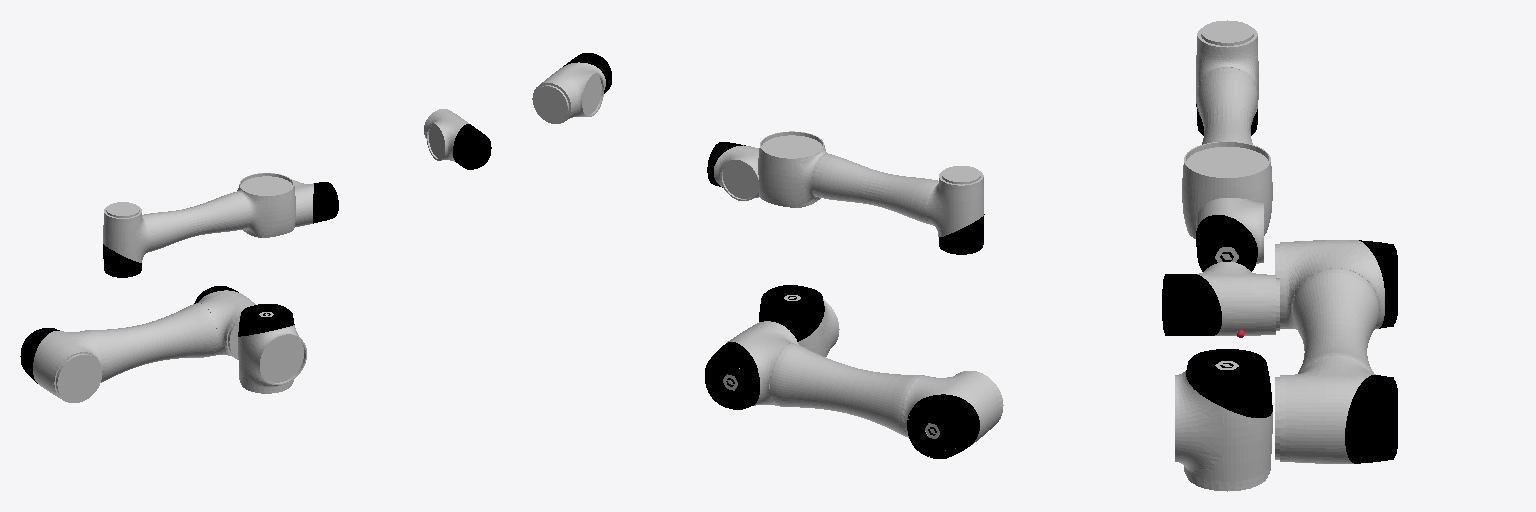
URDF robot description (fr3):
<?xml version="1.0" ?>
<!-- =================================================================================== -->
<!-- |    This document was autogenerated by xacro from ws/src/external/franka_description/robots/fr3/fr3.urdf.xacro | -->
<!-- |    EDITING THIS FILE BY HAND IS NOT RECOMMENDED                                 | -->
<!-- =================================================================================== -->
<robot name="fr3">
  <!-- safety_distance: Minimum safety distance in [m] by which the collision volumes are expanded and which is enforced during robot motions -->
  <!-- arm_id: Namespace of the robot arm. Serves to differentiate between arms in case of multiple instances. -->
  <!-- joint_limits: description of the joint limits that comes from a YAML file. Example definition: ${xacro.load_yaml('$(find franka_description)/robots/fr3/joint_limits.yaml')} -->
  <!-- kinematics: description of the kinematics that comes from a YAML file. Example definition: ${xacro.load_yaml('$(find franka_description)/robots/fr3/kinematics.yaml')} -->
  <!-- inertials: description of the inertials that comes from a YAML file. Example definition: ${xacro.load_yaml('$(find franka_description)/robots/fr3/inertials.yaml')} -->
  <!-- dynamics: description of the dynamics that comes from a YAML file. Example definition: ${xacro.load_yaml('$(find franka_description)/robots/fr3/dynamics.yaml')} -->
  <!-- sub-link defining detailed meshes for collision with environment -->

  <!-- TODO: add klampt tag, will need to fix the visualization issue as well -->
  <klampt use_vis_geom="1" flip_yz="1" />

  <link name="fr3_link0">
    <visual name="fr3_link0_visual">
      <geometry>
        <mesh filename="urdfs/fr3/meshes/visual/link0.dae"/>
      </geometry>
    </visual>
    <collision name="fr3_link0_collision">
      <geometry>
        <mesh filename="urdfs/fr3/meshes/collision/link0.stl"/>
      </geometry>
    </collision>
    <inertial>
      <origin rpy="0 0 0" xyz="-0.0172 0.0004 0.0745"/>
      <mass value="2.3966"/>
      <inertia ixx="0.009" ixy="0.0" ixz="0.002" iyy="0.0115" iyz="0.0" izz="0.0085"/>
    </inertial>
  </link>
  <!-- sub-link defining detailed meshes for collision with environment -->
  <link name="fr3_link1">
    <visual name="fr3_link1_visual">
      <geometry>
        <mesh filename="urdfs/fr3/meshes/visual/link1.dae"/>
      </geometry>
    </visual>
    <collision name="fr3_link1_collision">
      <geometry>
        <mesh filename="urdfs/fr3/meshes/collision/link1.stl"/>
      </geometry>
    </collision>
    <inertial>
      <origin rpy="0 0 0" xyz="0.0000004128 -0.0181251324 -0.0386035970"/>
      <mass value="2.9274653454"/>
      <inertia ixx="0.023927316485107913" ixy="1.3317903455714081e-05" ixz="-0.00011404774918616684" iyy="0.0224821613275756" iyz="-0.0019950320628240115" izz="0.006350098258530016"/>
    </inertial>
  </link>
  <joint name="fr3_joint1" type="revolute">
    <origin rpy="0 0 0" xyz="0 0 0.333"/>
    <parent link="fr3_link0"/>
    <child link="fr3_link1"/>
    <axis xyz="0 0 1"/>
    <limit effort="87.0" lower="-2.7437" upper="2.7437" velocity="2.62"/>
    <safety_controller k_position="100.0" k_velocity="40.0" soft_lower_limit="-2.7437" soft_upper_limit="2.7437"/>
    <dynamics D="1" K="7000" damping="0.003" friction="0.2" mu_coulomb="0" mu_viscous="16"/>
  </joint>
  <!-- sub-link defining detailed meshes for collision with environment -->
  <link name="fr3_link2">
    <visual name="fr3_link2_visual">
      <geometry>
        <mesh filename="urdfs/fr3/meshes/visual/link2.dae"/>
      </geometry>
    </visual>
    <collision name="fr3_link2_collision">
      <geometry>
        <mesh filename="urdfs/fr3/meshes/collision/link2.stl"/>
      </geometry>
    </collision>
    <inertial>
      <origin rpy="0 0 0" xyz="0.0031828864 -0.0743221644 0.0088146084"/>
      <mass value="2.9355370338"/>
      <inertia ixx="0.041938946257609425" ixy="0.00020257331521090626" ixz="0.004077784227179924" iyy="0.02514514885014724" iyz="-0.0042252158006570156" izz="0.06170214472888839"/>
    </inertial>
  </link>
  <joint name="fr3_joint2" type="revolute">
    <origin rpy="-1.570796326794897 0 0" xyz="0 0 0"/>
    <parent link="fr3_link1"/>
    <child link="fr3_link2"/>
    <axis xyz="0 0 1"/>
    <limit effort="87.0" lower="-1.7837" upper="1.7837" velocity="2.62"/>
    <safety_controller k_position="100.0" k_velocity="40.0" soft_lower_limit="-1.7837" soft_upper_limit="1.7837"/>
    <dynamics D="1" K="7000" damping="0.003" friction="0.2" mu_coulomb="0" mu_viscous="16"/>
  </joint>
  <!-- sub-link defining detailed meshes for collision with environment -->
  <link name="fr3_link3">
    <visual name="fr3_link3_visual">
      <geometry>
        <mesh filename="urdfs/fr3/meshes/visual/link3.dae"/>
      </geometry>
    </visual>
    <collision name="fr3_link3_collision">
      <geometry>
        <mesh filename="urdfs/fr3/meshes/collision/link3.stl"/>
      </geometry>
    </collision>
    <inertial>
      <origin rpy="0 0 0" xyz="0.0407015686 -0.0048200565 -0.0289730823"/>
      <mass value="2.2449013699"/>
      <inertia ixx="0.02410142547240885" ixy="0.002404694559042109" ixz="-0.002856269270114313" iyy="0.01974053266708178" iyz="-0.002104212683891874" izz="0.019044494482244823"/>
    </inertial>
  </link>
  <joint name="fr3_joint3" type="revolute">
    <origin rpy="1.570796326794897 0 0" xyz="0 -0.316 0"/>
    <parent link="fr3_link2"/>
    <child link="fr3_link3"/>
    <axis xyz="0 0 1"/>
    <limit effort="87.0" lower="-2.9007" upper="2.9007" velocity="2.62"/>
    <safety_controller k_position="100.0" k_velocity="40.0" soft_lower_limit="-2.9007" soft_upper_limit="2.9007"/>
    <dynamics D="1" K="7000" damping="0.003" friction="0.2" mu_coulomb="0" mu_viscous="16"/>
  </joint>
  <!-- sub-link defining detailed meshes for collision with environment -->
  <link name="fr3_link4">
    <visual name="fr3_link4_visual">
      <geometry>
        <mesh filename="urdfs/fr3/meshes/visual/link4.dae"/>
      </geometry>
    </visual>
    <collision name="fr3_link4_collision">
      <geometry>
        <mesh filename="urdfs/fr3/meshes/collision/link4.stl"/>
      </geometry>
    </collision>
    <inertial>
      <origin rpy="0 0 0" xyz="-0.0459100965 0.0630492960 -0.0085187868"/>
      <mass value="2.6155955791"/>
      <inertia ixx="0.03452998321913202" ixy="0.01322552265982813" ixz="0.01015142998484113" iyy="0.028881621933049058" iyz="-0.0009762833870704552" izz="0.04125471171146641"/>
    </inertial>
  </link>
  <joint name="fr3_joint4" type="revolute">
    <origin rpy="1.570796326794897 0 0" xyz="0.0825 0 0"/>
    <parent link="fr3_link3"/>
    <child link="fr3_link4"/>
    <axis xyz="0 0 1"/>
    <limit effort="87.0" lower="-3.0421" upper="-0.1518" velocity="2.62"/>
    <safety_controller k_position="100.0" k_velocity="40.0" soft_lower_limit="-3.0421" soft_upper_limit="-0.1518"/>
    <dynamics D="1" K="7000" damping="0.003" friction="0.2" mu_coulomb="0" mu_viscous="16"/>
  </joint>
  <!-- sub-link defining detailed meshes for collision with environment -->
  <link name="fr3_link5">
    <visual name="fr3_link5_visual">
      <geometry>
        <mesh filename="urdfs/fr3/meshes/visual/link5.dae"/>
      </geometry>
    </visual>
    <collision name="fr3_link5_collision">
      <geometry>
        <mesh filename="urdfs/fr3/meshes/collision/link5.stl"/>
      </geometry>
    </collision>
    <inertial>
      <origin rpy="0 0 0" xyz="-0.0016039605 0.0292536262 -0.0972965990"/>
      <mass value="2.3271207594"/>
      <inertia ixx="0.051610278463662895" ixy="-0.005715173387783472" ixz="-0.0035673167625872135" iyy="0.04787729713371481" iyz="0.010673985108535986" izz="0.016423625579357254"/>
    </inertial>
  </link>
  <joint name="fr3_joint5" type="revolute">
    <origin rpy="-1.570796326794897 0 0" xyz="-0.0825 0.384 0"/>
    <parent link="fr3_link4"/>
    <child link="fr3_link5"/>
    <axis xyz="0 0 1"/>
    <limit effort="12.0" lower="-2.8065" upper="2.8065" velocity="5.26"/>
    <safety_controller k_position="100.0" k_velocity="40.0" soft_lower_limit="-2.8065" soft_upper_limit="2.8065"/>
    <dynamics D="1" K="7000" damping="0.003" friction="0.2" mu_coulomb="0" mu_viscous="16"/>
  </joint>
  <!-- sub-link defining detailed meshes for collision with environment -->
  <link name="fr3_link6">
    <visual name="fr3_link6_visual">
      <geometry>
        <mesh filename="urdfs/fr3/meshes/visual/link6.dae"/>
      </geometry>
    </visual>
    <collision name="fr3_link6_collision">
      <geometry>
        <mesh filename="urdfs/fr3/meshes/collision/link6.stl"/>
      </geometry>
    </collision>
    <inertial>
      <origin rpy="0 0 0" xyz="0.0597131221 -0.0410294666 -0.0101692726"/>
      <mass value="1.8170376524"/>
      <inertia ixx="0.005412333594383447" ixy="0.006193456360285834" ixz="0.0014219289306117652" iyy="0.014058329545509979" iyz="-0.0013140753741120031" izz="0.016080817924212554"/>
    </inertial>
  </link>
  <joint name="fr3_joint6" type="revolute">
    <origin rpy="1.570796326794897 0 0" xyz="0 0 0"/>
    <parent link="fr3_link5"/>
    <child link="fr3_link6"/>
    <axis xyz="0 0 1"/>
    <limit effort="12.0" lower="0.5445" upper="4.5169" velocity="4.18"/>
    <safety_controller k_position="100.0" k_velocity="40.0" soft_lower_limit="0.5445" soft_upper_limit="4.5169"/>
    <dynamics D="1" K="7000" damping="0.003" friction="0.2" mu_coulomb="0" mu_viscous="16"/>
  </joint>
  <!-- sub-link defining detailed meshes for collision with environment -->
  <link name="fr3_link7">
    <visual name="fr3_link7_visual">
      <geometry>
        <mesh filename="urdfs/fr3/meshes/visual/link7.dae"/>
      </geometry>
    </visual>
    <collision name="fr3_link7_collision">
      <geometry>
        <mesh filename="urdfs/fr3/meshes/collision/link7.stl"/>
      </geometry>
    </collision>
    <inertial>
      <origin rpy="0 0 0" xyz="0.0045225817 0.0086261921 -0.0161633251"/>
      <mass value="0.6271432862"/>
      <inertia ixx="0.00021092389150104718" ixy="-2.433299114461931e-05" ixz="4.564480393778983e-05" iyy="0.00017718568002411474" iyz="8.744070223226438e-05" izz="5.993190599659971e-05"/>
    </inertial>
  </link>
  <joint name="fr3_joint7" type="revolute">
    <origin rpy="1.570796326794897 0 0" xyz="0.088 0 0"/>
    <parent link="fr3_link6"/>
    <child link="fr3_link7"/>
    <axis xyz="0 0 1"/>
    <limit effort="12.0" lower="-3.0159" upper="3.0159" velocity="5.26"/>
    <safety_controller k_position="100.0" k_velocity="40.0" soft_lower_limit="-3.0159" soft_upper_limit="3.0159"/>
    <dynamics D="1" K="7000" damping="0.003" friction="0.2" mu_coulomb="0" mu_viscous="16"/>
  </joint>
  <link name="fr3_link8"/>
  <joint name="fr3_joint8" type="fixed">
    <origin rpy="0 0 0" xyz="0 0 0.107"/>
    <parent link="fr3_link7"/>
    <child link="fr3_link8"/>
  </joint>
  <joint name="fr3_hand_joint" type="fixed">
    <parent link="fr3_link8"/>
    <child link="fr3_hand"/>
    <origin rpy="0 0 -0.7853981633974483" xyz="0 0 0"/>
  </joint>
  <!-- sub-link defining detailed meshes for collision with environment -->
  <link name="fr3_hand">
    <visual name="fr3_hand_visual">
      <geometry>
        <mesh filename="urdfs/fr3/meshes/visual/hand.dae"/>
      </geometry>
    </visual>
    <collision name="fr3_hand_collision">
      <geometry>
        <mesh filename="urdfs/fr3/meshes/collision/hand.stl"/>
      </geometry>
    </collision>
    <inertial>
      <origin rpy="0 0 0" xyz="-0.01 0 0.03"/>
      <mass value="0.73"/>
      <inertia ixx="0.001" ixy="0" ixz="0" iyy="0.0025" iyz="0" izz="0.0017"/>
    </inertial>
  </link>
  <!-- Define the hand_tcp frame -->
  <link name="fr3_hand_tcp"/>
  <joint name="fr3_hand_tcp_joint" type="fixed">
    <origin rpy="0 0 0" xyz="0 0 0.1034"/>
    <parent link="fr3_hand"/>
    <child link="fr3_hand_tcp"/>
  </joint>



  <!--  -->
  <link name="fr3_leftfinger">
      <visual>
        <geometry>
          <mesh filename="urdfs/fr3/meshes/visual/finger.dae" />
        </geometry>
      </visual>
      <!-- screw mount -->
      <collision>
        <origin xyz="0 18.5e-3 11e-3" rpy="0 0 0" />
        <geometry>
          <box size="22e-3 15e-3 20e-3" />
        </geometry>
      </collision>
      <!-- cartriage sledge -->
      <collision>
        <origin xyz="0 6.8e-3 2.2e-3" rpy="0 0 0" />
        <geometry>
          <box size="22e-3 8.8e-3 3.8e-3" />
        </geometry>
      </collision>
      <!-- diagonal finger -->
      <collision>
        <!-- <origin xyz="0 15.9e-3 28.35e-3" rpy="${pi/6} 0 0" /> -->
        <origin xyz="0 15.9e-3 28.35e-3" rpy="0.523598776 0 0" />
        <geometry>
          <box size="17.5e-3 7e-3 23.5e-3" />
        </geometry>
      </collision>
      <!-- rubber tip with which to grasp -->
      <collision>
        <origin xyz="0 7.58e-3 45.25e-3" rpy="0 0 0" />
        <geometry>
          <box size="17.5e-3 15.2e-3 18.5e-3" />
        </geometry>
      </collision>
    </link>
    <link name="fr3_rightfinger">
      <visual>
        <!-- <origin xyz="0 0 0" rpy="0 0 ${pi}" /> -->
        <origin xyz="0 0 0" rpy="0 0 3.14159265" />
        <geometry>
          <mesh filename="urdfs/fr3/meshes/visual/finger.dae" />
        </geometry>
      </visual>
      <!-- screw mount -->
      <collision>
        <origin xyz="0 -18.5e-3 11e-3" rpy="0 0 0" />
        <geometry>
          <box size="22e-3 15e-3 20e-3" />
        </geometry>
      </collision>
      <!-- cartriage sledge -->
      <collision>
        <origin xyz="0 -6.8e-3 2.2e-3" rpy="0 0 0" />
        <geometry>
          <box size="22e-3 8.8e-3 3.8e-3" />
        </geometry>
      </collision>
      <!-- diagonal finger -->
      <collision>
        <!-- <origin xyz="0 -15.9e-3 28.35e-3" rpy="${-pi/6} 0 0" /> -->
        <origin xyz="0 -15.9e-3 28.35e-3" rpy="-0.523598776 0 0" />
        <geometry>
          <box size="17.5e-3 7e-3 23.5e-3" />
        </geometry>
      </collision>
      <!-- rubber tip with which to grasp -->
      <collision>
        <origin xyz="0 -7.58e-3 45.25e-3" rpy="0 0 0" />
        <geometry>
          <box size="17.5e-3 15.2e-3 18.5e-3" />
        </geometry>
      </collision>
    </link>
    <joint name="fr3_finger_joint1" type="prismatic">
      <parent link="fr3_hand" />
      <child link="fr3_leftfinger" />
      <origin xyz="0 0 0.0584" rpy="0 0 0" />
      <axis xyz="0 1 0" />
      <limit effort="100" lower="0.0" upper="0.04" velocity="0.2" />
      <dynamics damping="0.3" />
    </joint>
    <joint name="fr3_finger_joint2" type="prismatic">
      <parent link="fr3_hand" />
      <child link="fr3_rightfinger" />
      <origin xyz="0 0 0.0584" rpy="0 0 0" />
      <axis xyz="0 -1 0" />
      <limit effort="100" lower="0.0" upper="0.04" velocity="0.2" />
      <mimic joint="fr3_finger_joint1" />
      <dynamics damping="0.3" />
    </joint>

</robot>

--- What the picture shows (computed from the rendered views, not written in the file) ---
Views: 3 orthographic renders of the robot side by side, from view 1: azimuth 30°, elevation 25°; view 2: azimuth 150°, elevation 25°; view 3: azimuth 270°, elevation 25°.
Model fr3 with 13 links and 12 joints (7 revolute, 2 prismatic, 3 fixed), rooted at fr3_link0, posed all joints at 0 but 2 set to mid-range because 0 is outside their limits (fr3_joint4 = -1.6, fr3_joint6 = 2.53).
Visible links, largest first — view 1: fr3_link2, fr3_link3, fr3_link1, fr3_link5, fr3_link4; view 2: fr3_link2, fr3_link3, fr3_link5, fr3_link1, fr3_link4; view 3: fr3_link2, fr3_link3, fr3_link1, fr3_link5, fr3_link4.
Link boxes in pixels (box(x1,y1,x2,y2)): fr3_link2: box(20, 286, 255, 402); fr3_link3: box(103, 173, 295, 277); fr3_link1: box(238, 304, 306, 393); fr3_link5: box(424, 109, 491, 169); fr3_link4: box(293, 180, 338, 226); fr3_link2: box(705, 321, 1003, 458); fr3_link3: box(758, 131, 984, 254); fr3_link5: box(532, 53, 611, 123); fr3_link1: box(759, 285, 839, 356); fr3_link4: box(707, 142, 759, 200); fr3_link2: box(1275, 240, 1397, 463); fr3_link3: box(1182, 20, 1272, 238); fr3_link1: box(1175, 349, 1272, 491); fr3_link5: box(1162, 262, 1279, 335); fr3_link4: box(1196, 198, 1263, 271).
Size in the robot's own frame: 0.9994 by 0.3185 by 0.5138 metres.
6 mesh visuals loaded from 10 distinct referenced files (6 Collada DAE); not drawn: 5 (reference not matched to a file when rendering).
